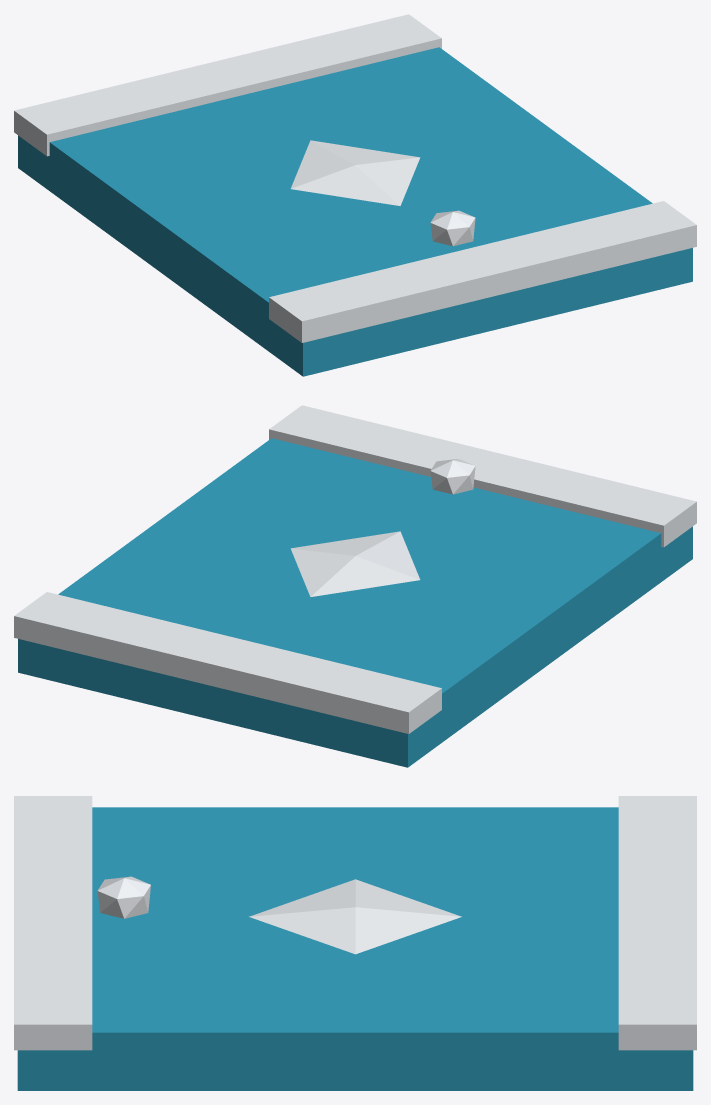
The model's file is drop_cape_fishing.glb.
3 views of the same model, one above another, from view 1: azimuth 30°, elevation 25°; view 2: azimuth 150°, elevation 25°; view 3: azimuth 270°, elevation 25° (orthographic). The views are drawn at different scales.
Parts seen in each view (by area): view 1: drop_cape_fishing; view 2: drop_cape_fishing; view 3: drop_cape_fishing.
Boxes of the visible parts, <box> form: drop_cape_fishing: <box>14,14,696,376</box>; drop_cape_fishing: <box>14,405,696,767</box>; drop_cape_fishing: <box>14,796,696,1090</box>.
Size of the model in its own units: 0.304 by 0.062 by 0.384.
